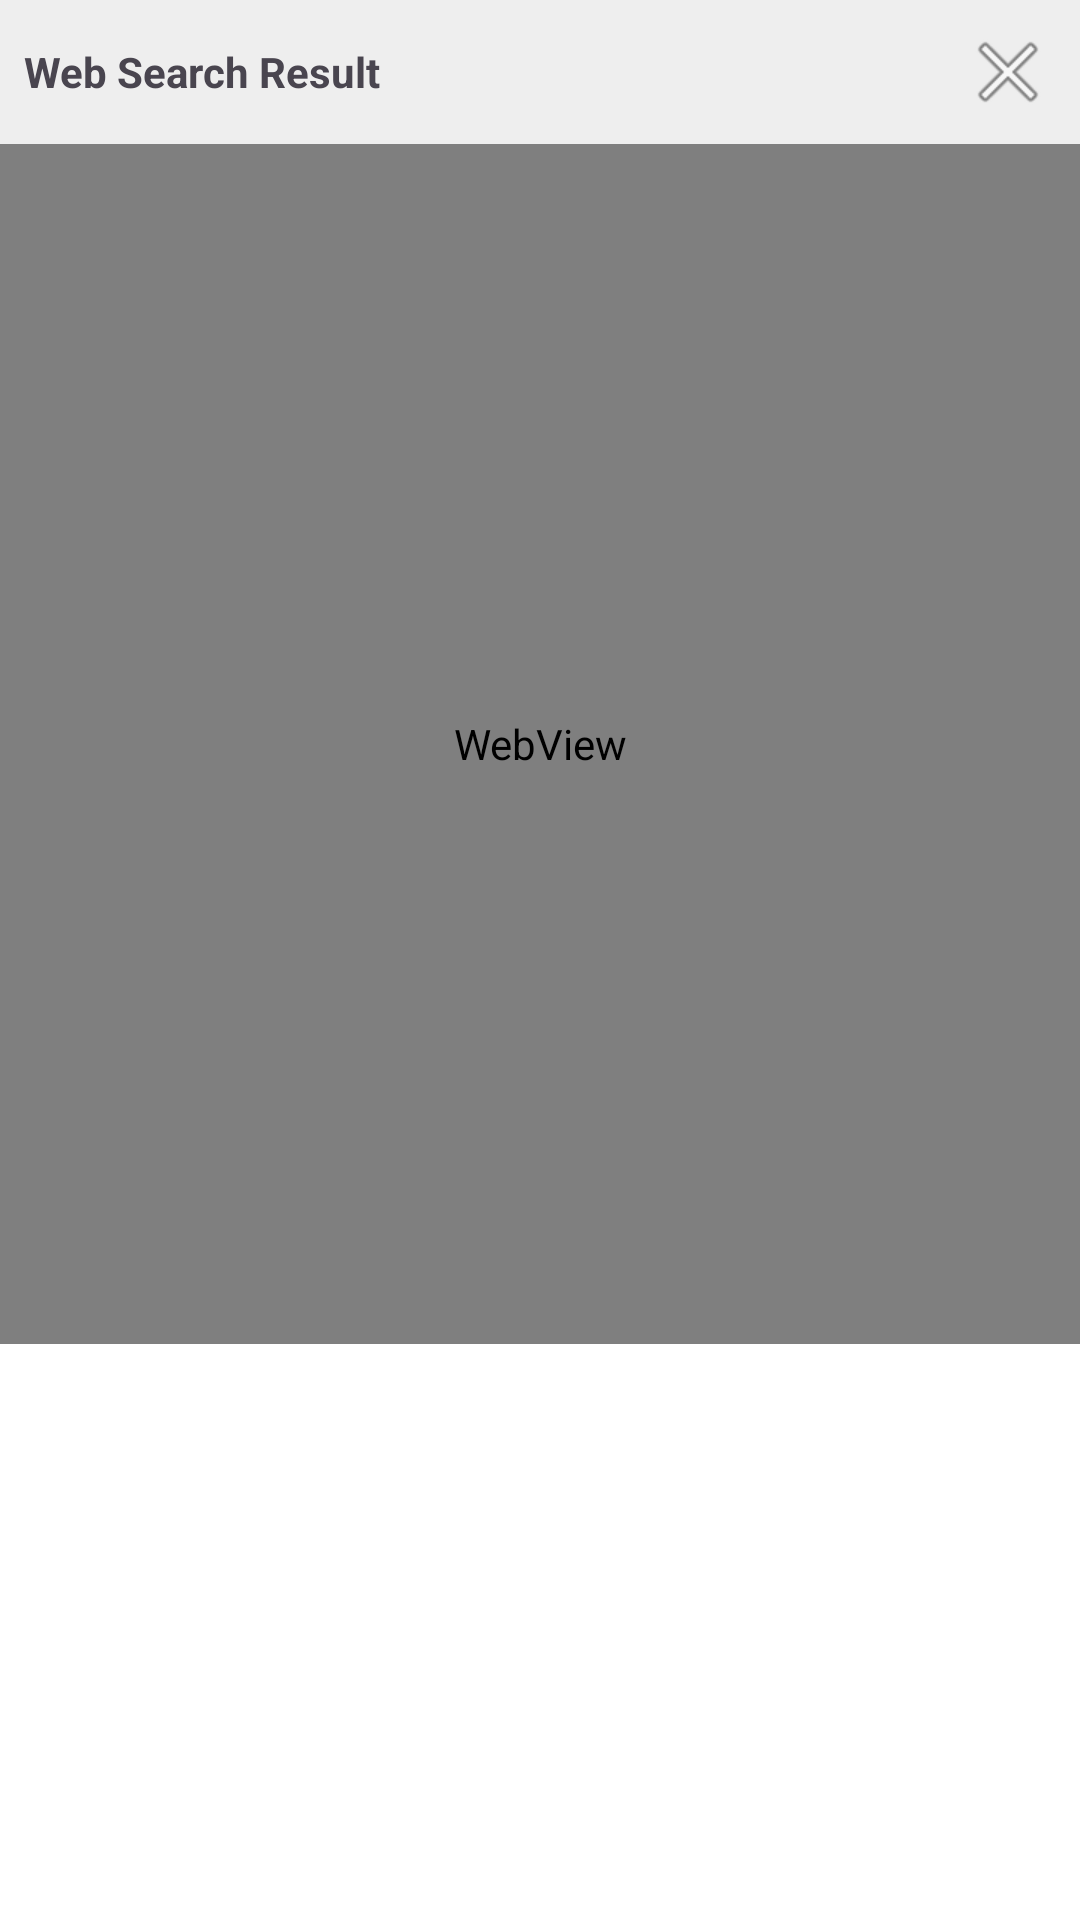

Screen size 1080×1920. Icon name, then its box in pixels as (x1=x1, y1=y1, x2=x2, y2=y2):
Close Search: (x1=978, y1=42, x2=1038, y2=102)
